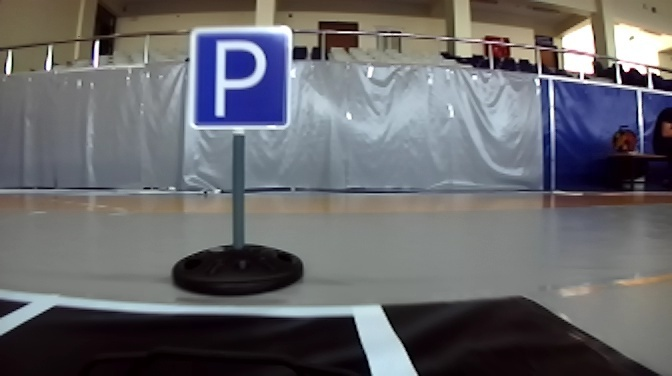park: (189, 25, 293, 130)
